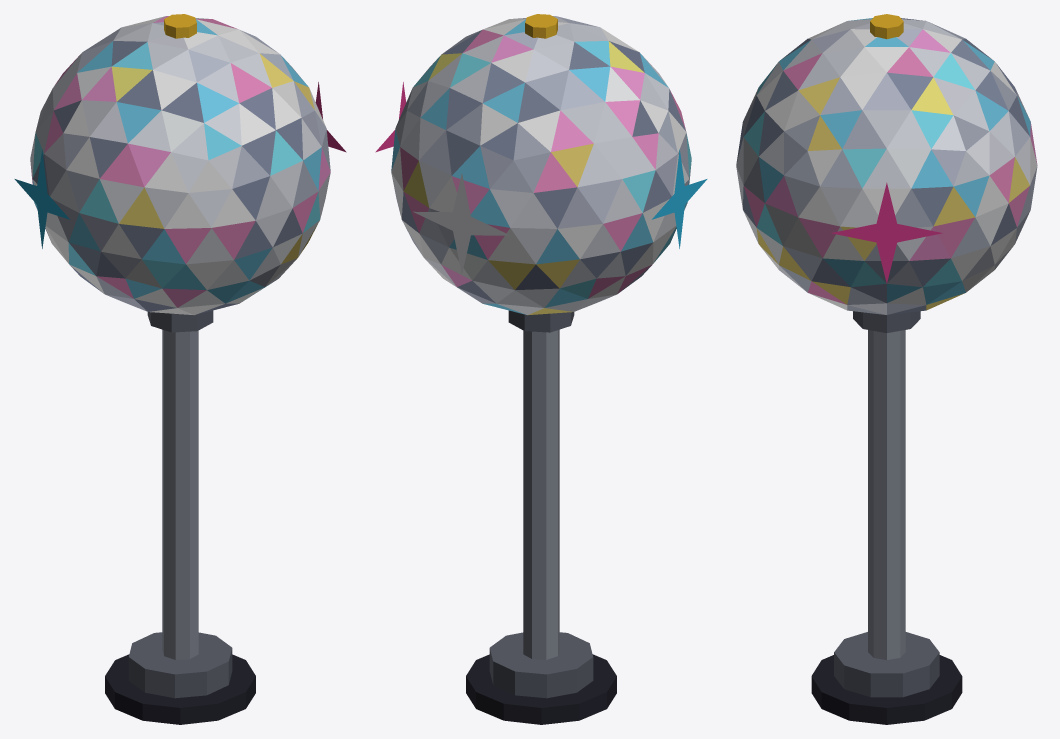
Rendered from Decor_DJStage_MirrorBall.fbx.
3 views of the same model, side by side, from view 1: azimuth 30°, elevation 25°; view 2: azimuth 150°, elevation 25°; view 3: azimuth 270°, elevation 25° (orthographic).
Visible parts, largest first — view 1: MirrorBall_Body; view 2: MirrorBall_Body; view 3: MirrorBall_Body.
Boxes of the visible parts, x1,y1,x2,y2 form: MirrorBall_Body: [14, 14, 346, 724]; MirrorBall_Body: [375, 14, 707, 724]; MirrorBall_Body: [736, 14, 1037, 724].
Bounding box in the file's own units: 8.5 × 19.75 × 8.25.
